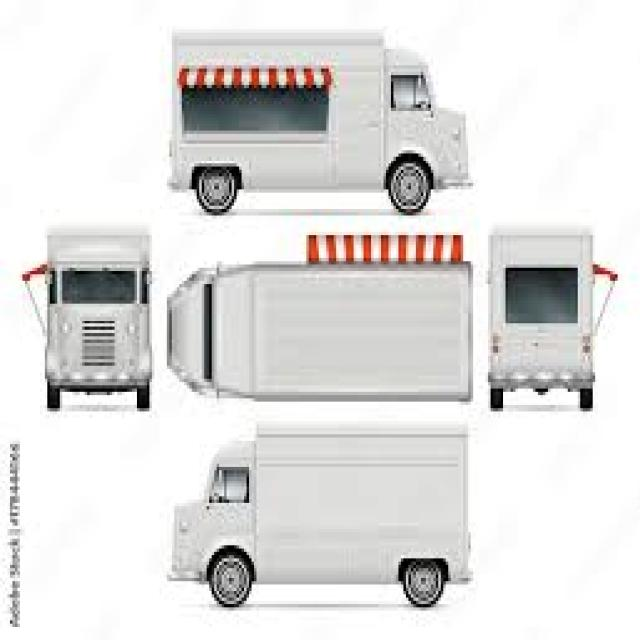truck: (165, 246, 472, 408)
